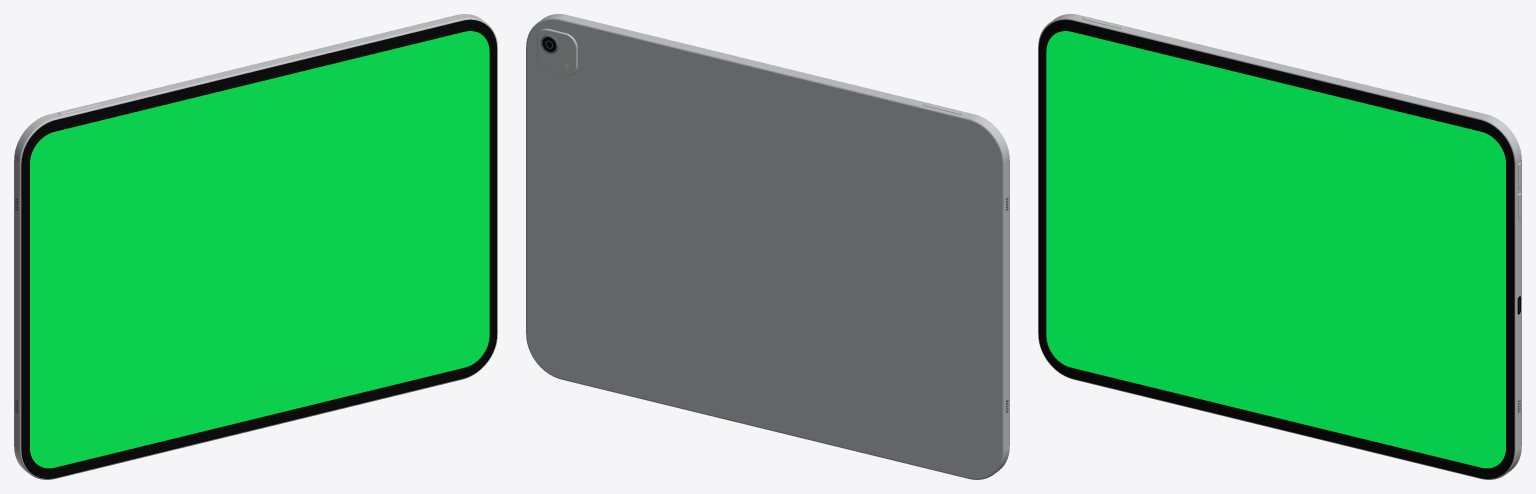
Rendered from tablet-11.glb.
3 views of the same model, side by side, from view 1: azimuth 30°, elevation 25°; view 2: azimuth 150°, elevation 25°; view 3: azimuth 330°, elevation 25° (orthographic).
Parts seen in each view (by area): view 1: Screen, Bezel, Frame, GlassEdge; view 2: Back, Frame, CameraIsland; view 3: Screen, Bezel, Frame, GlassEdge.
Part boxes in pixels (x1,y1,x2,y2): Screen: [30, 31, 489, 468]; Bezel: [22, 21, 496, 478]; Frame: [14, 14, 497, 479]; GlassEdge: [21, 19, 496, 478]; Back: [527, 20, 1001, 478]; Frame: [526, 14, 1009, 479]; CameraIsland: [537, 28, 577, 75]; Screen: [1046, 31, 1505, 468]; Bezel: [1039, 21, 1513, 478]; Frame: [1038, 14, 1521, 479]; GlassEdge: [1039, 19, 1514, 478].
Size of the model in its own units: 0.2481 by 0.179 by 0.00787.
